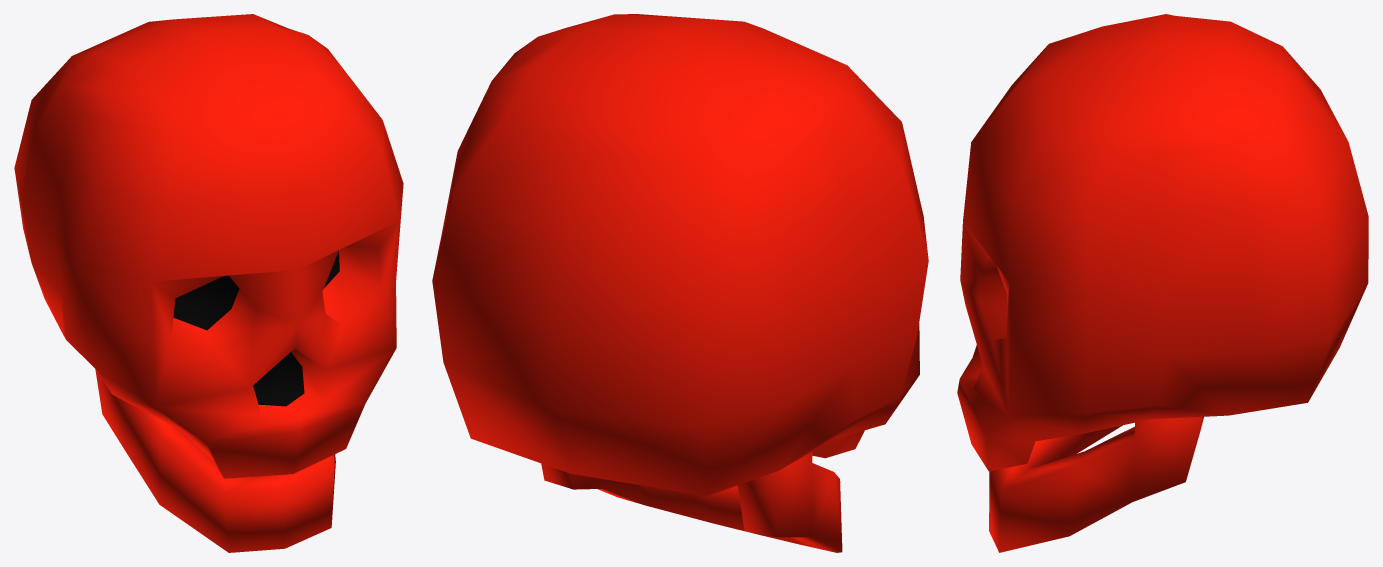
The model's file is Skull.fbx.
3 renders of one model, left to right at view 1: azimuth 30°, elevation 25°; view 2: azimuth 150°, elevation 25°; view 3: azimuth 270°, elevation 25°, orthographic. The views are drawn at different scales.
Visible parts, largest first — view 1: Skull; view 2: Skull; view 3: Skull.
Boxes of the visible parts, <box> form: Skull: <box>14,14,403,552</box>; Skull: <box>432,14,928,552</box>; Skull: <box>957,14,1368,552</box>.
Bounding box in the file's own units: 56.22 × 74.48 × 56.47.
